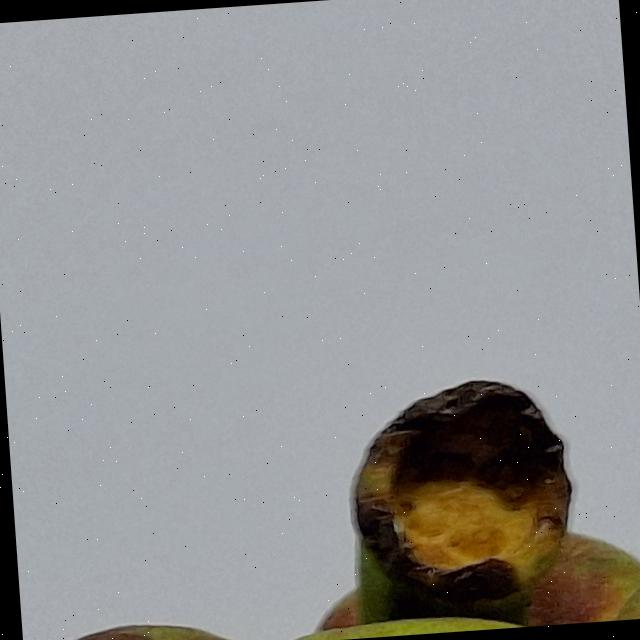mangosteen: (5, 367, 640, 640)
